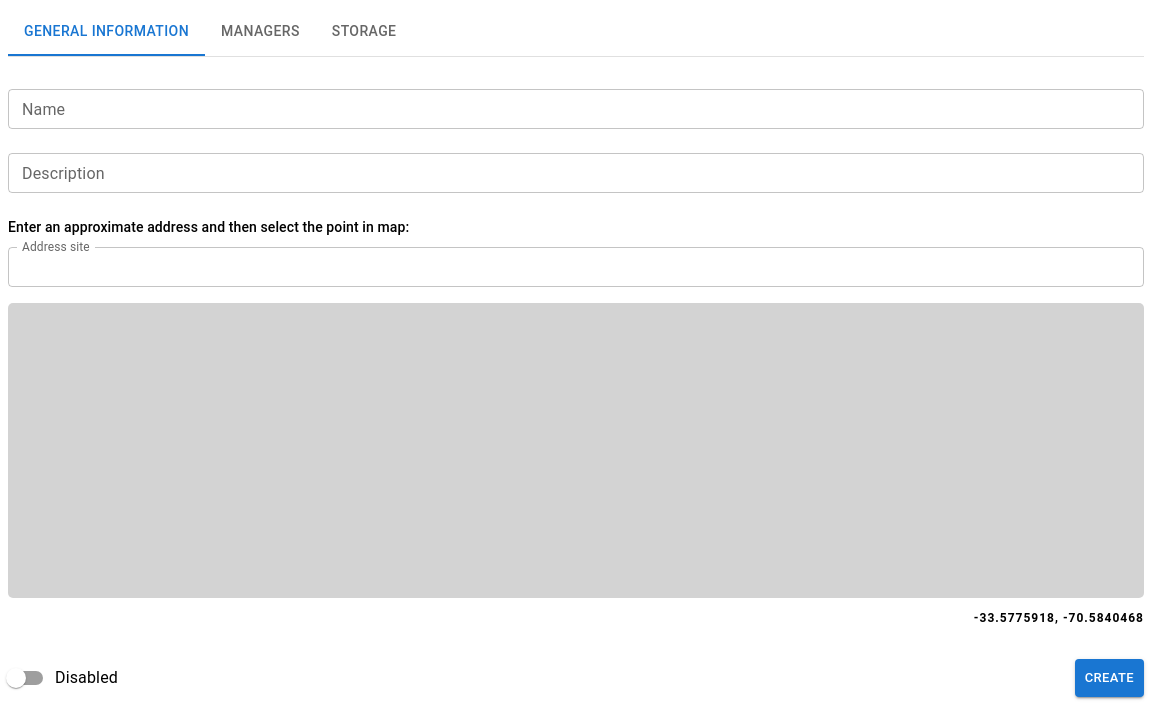
Test: SiteForm › should show error message when inputs form not be ok
What coordinates should you click on to do the following:
click the button "Create"
I would click on:
 (1109, 678)
Its box is [1075,659,1144,697].
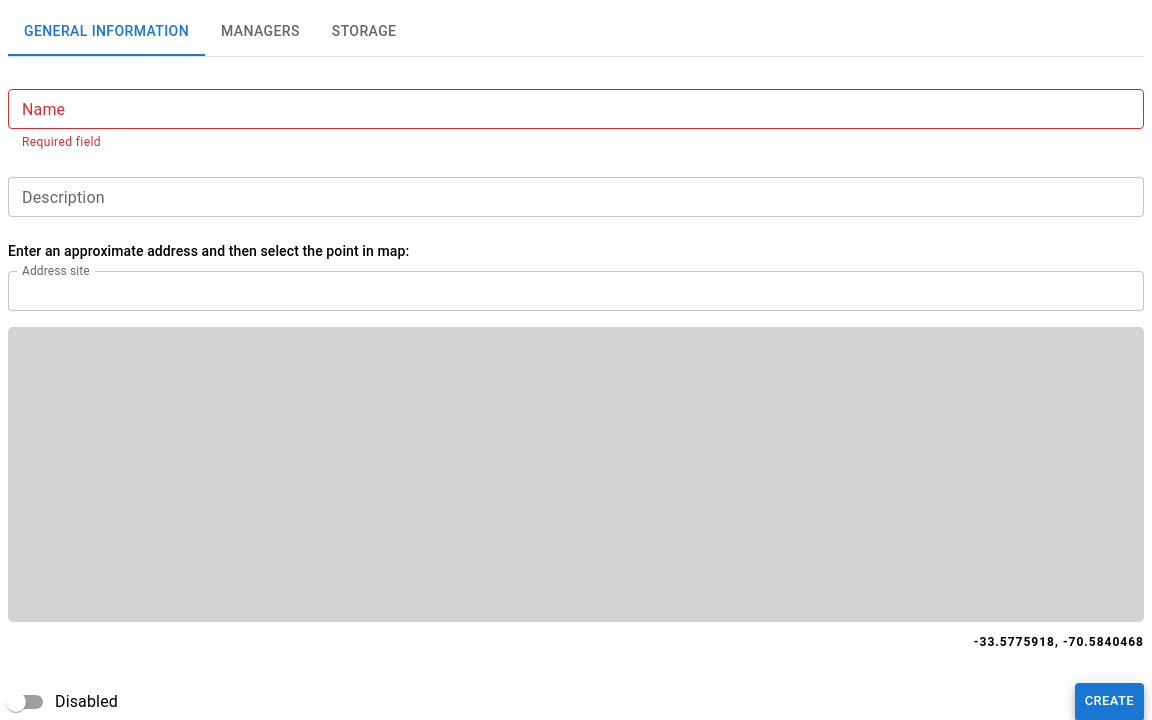
Result: the text "Required field" is shown once at [22,135,101,149]
